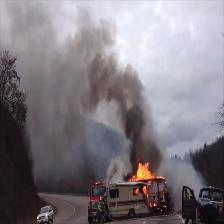fire: (132, 161, 162, 180)
smoke: (33, 7, 171, 161)
